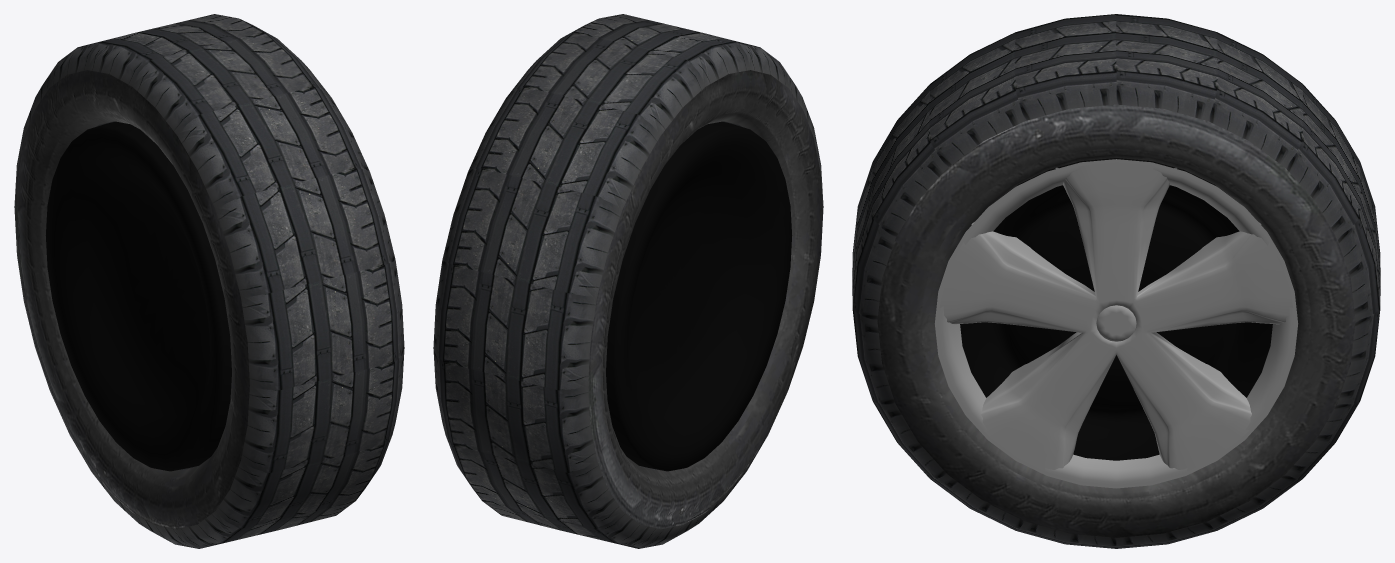
The model's file is Poter fWheel.fbx.
3 renders of one model, left to right at view 1: azimuth 30°, elevation 25°; view 2: azimuth 150°, elevation 25°; view 3: azimuth 270°, elevation 25°, orthographic.
Visible parts, largest first — view 1: F_Wheel Tire.001, F_Wheel.001; view 2: F_Wheel Tire.001, F_Wheel.001; view 3: F_Wheel Tire.001, F_Wheel.001.
Part boxes in pixels (<box>): F_Wheel Tire.001: <box>14,14,404,548</box>; F_Wheel.001: <box>45,121,231,471</box>; F_Wheel Tire.001: <box>433,14,823,548</box>; F_Wheel.001: <box>606,121,792,471</box>; F_Wheel Tire.001: <box>852,14,1380,548</box>; F_Wheel.001: <box>934,158,1298,488</box>.
Bounding box in the file's own units: 21.14 × 57.1 × 57.1.
